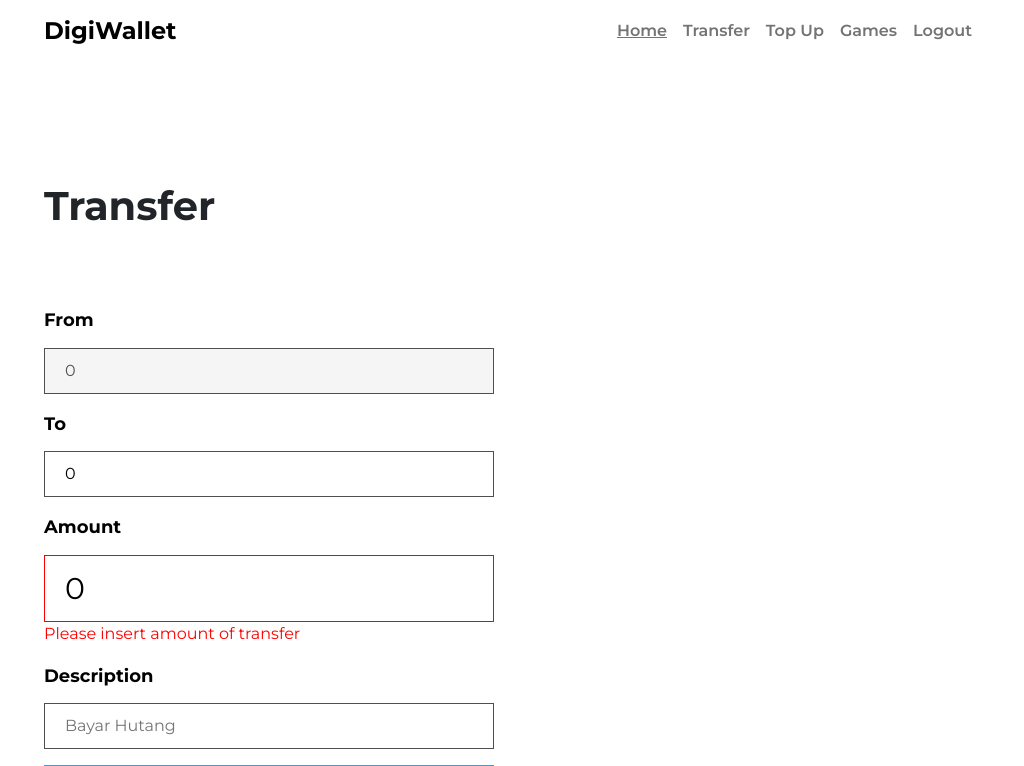
Test case: Should display warning when input is having higher amount than balance
The width and height of the screenshot is (1024, 766).
Replace the text in the field with test id "amount-input" with "10000": coordinates (269, 588) [44,555,494,622]
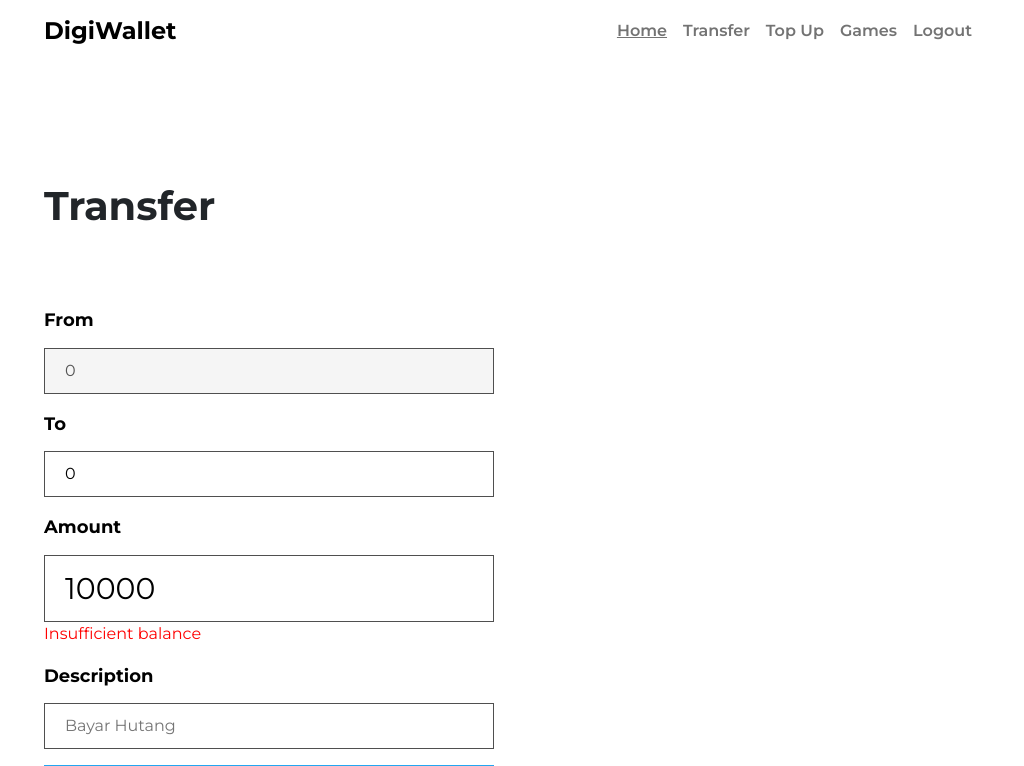
Now the text "Insufficient balance" is shown, box [44,624,201,643]
